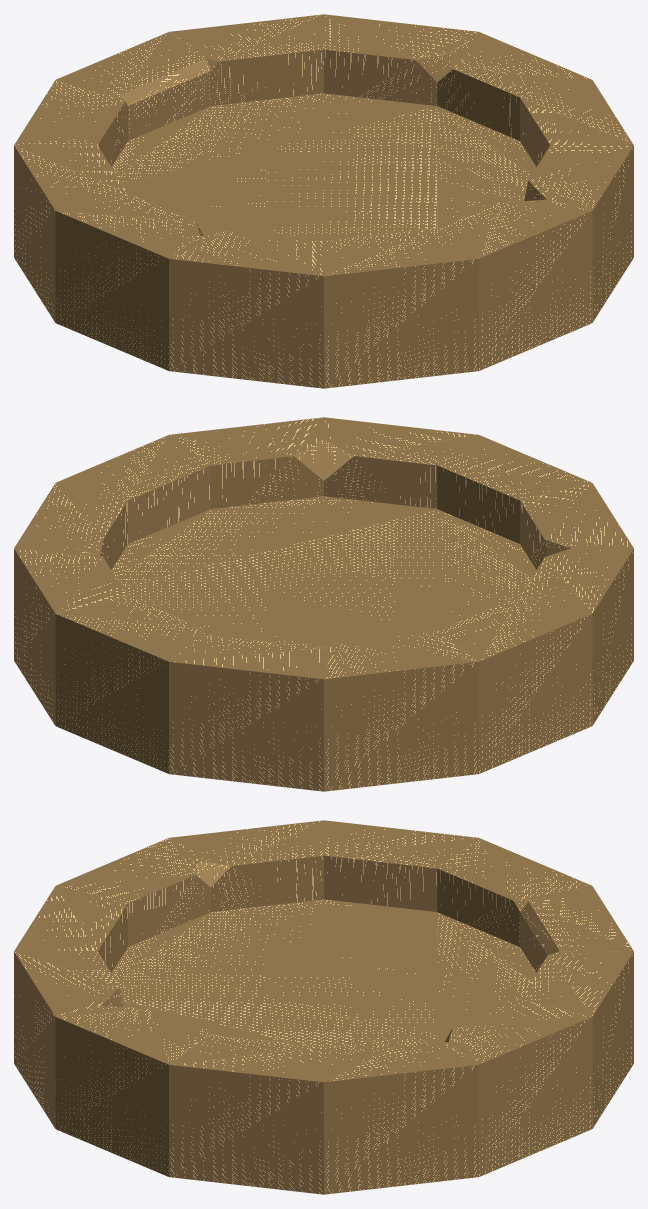
The model's file is coin_gold.glb.
3 renders of one model, top to bottom at view 1: azimuth 30°, elevation 25°; view 2: azimuth 150°, elevation 25°; view 3: azimuth 270°, elevation 25°, orthographic.
Parts seen in each view (by area): view 1: coin_gold; view 2: coin_gold; view 3: coin_gold.
Boxes of the visible parts, box(x1,y1,x2,y2) form: coin_gold: box(14, 14, 633, 388); coin_gold: box(14, 417, 633, 791); coin_gold: box(14, 820, 633, 1194).
Bounding box in the file's own units: 0.5 × 0.1 × 0.5.
1 material, 1 textured.
